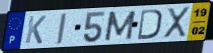5: (82, 10, 107, 44)
D: (136, 8, 163, 41)
I: (55, 12, 68, 46)
K: (24, 14, 48, 45)
M: (103, 9, 138, 42)
X: (163, 6, 192, 40)
